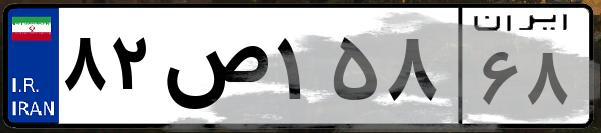1: (270, 28, 330, 110)
2: (110, 28, 158, 98)
5: (330, 28, 385, 110)
6: (475, 38, 525, 113)
8: (385, 28, 445, 110), (57, 26, 110, 100), (525, 38, 570, 115)
ص: (158, 20, 270, 120)
